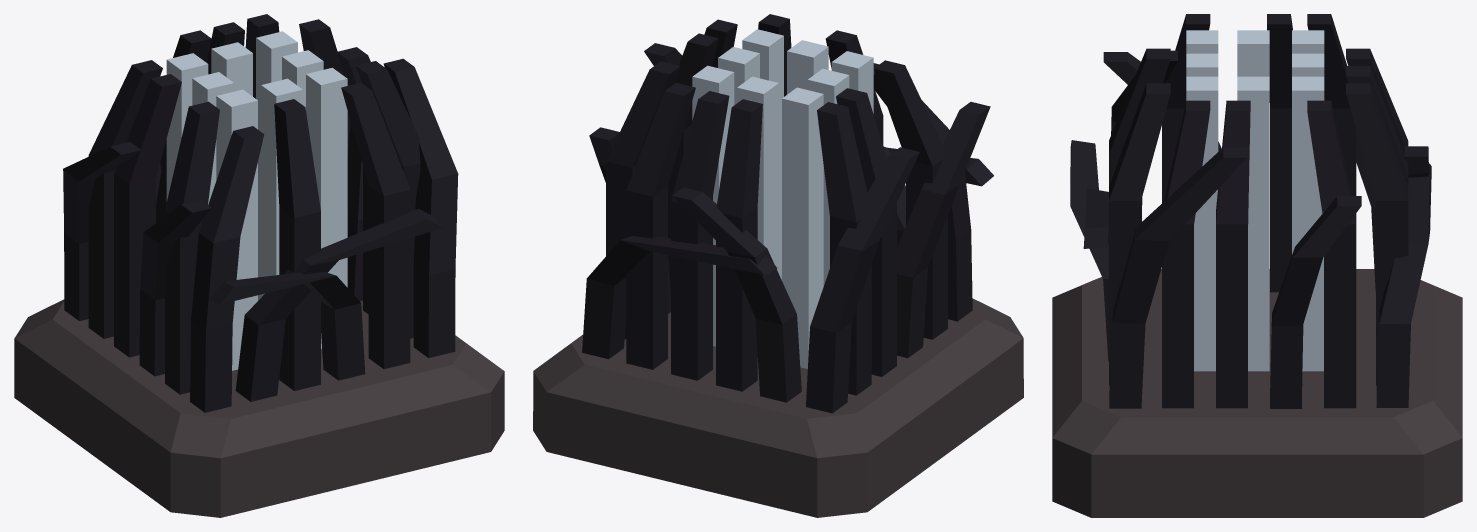
File: MatrixCore.fbx
3 views of the same model, side by side, from view 1: azimuth 30°, elevation 25°; view 2: azimuth 150°, elevation 25°; view 3: azimuth 270°, elevation 25° (orthographic). The views are drawn at different scales.
Parts seen in each view (by area): view 1: Matrix Core; view 2: Matrix Core; view 3: Matrix Core.
Boxes of the visible parts, left/top/right/bottom form: Matrix Core: left=14, top=14, right=504, bottom=517; Matrix Core: left=533, top=14, right=1023, bottom=517; Matrix Core: left=1052, top=14, right=1462, bottom=517.
Bounding box in the file's own units: 2.56 × 2.54 × 2.56.
